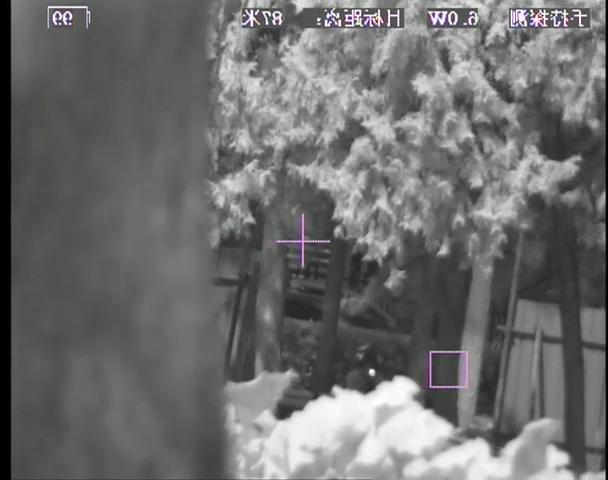my: (367, 367, 377, 378)
